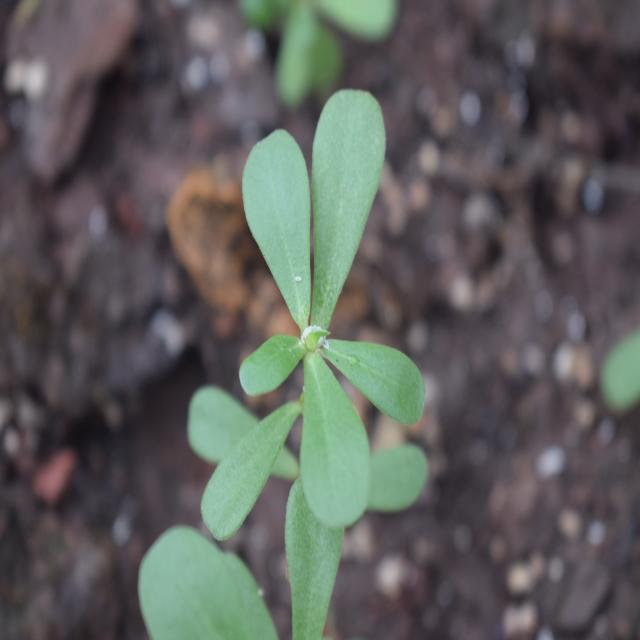purslane: (176, 73, 460, 598)
